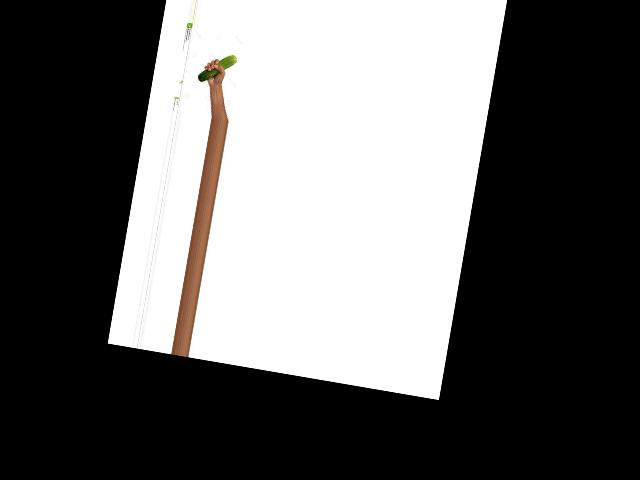cucumber: (196, 50, 237, 88)
